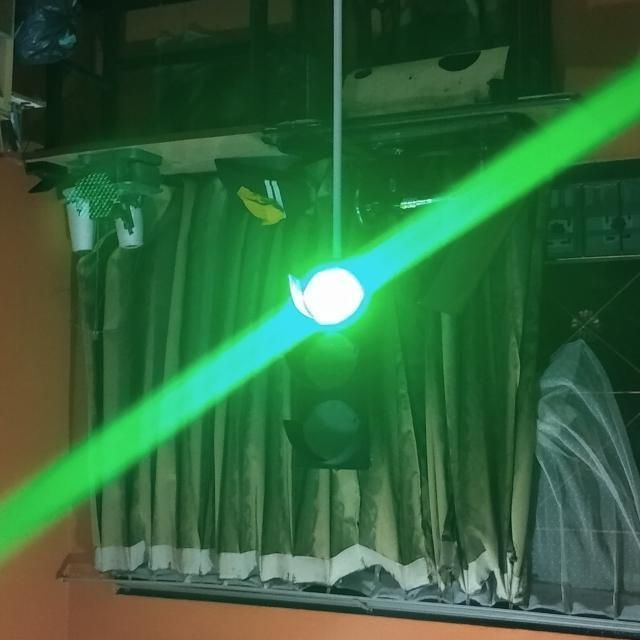green_light: (287, 258, 366, 466)
